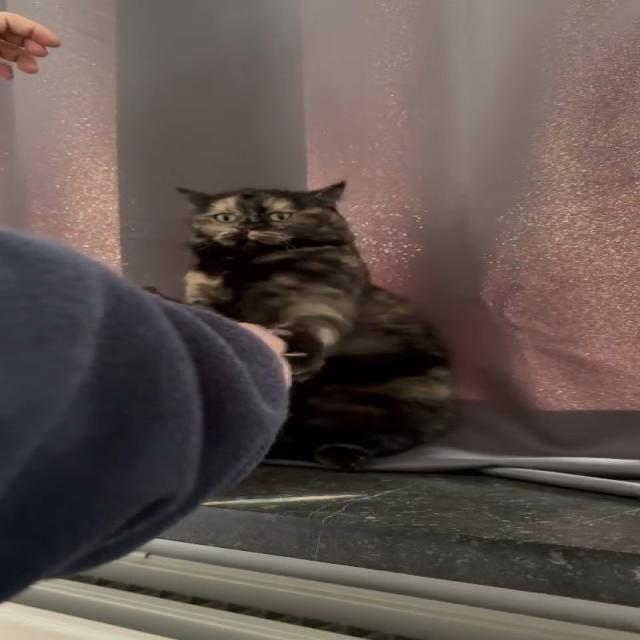authorized: (174, 179, 458, 470)
